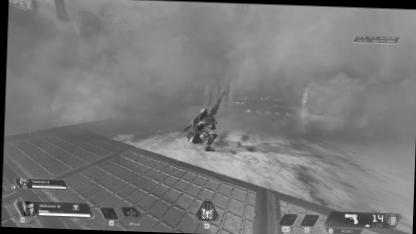Target: (188, 106, 219, 152)
